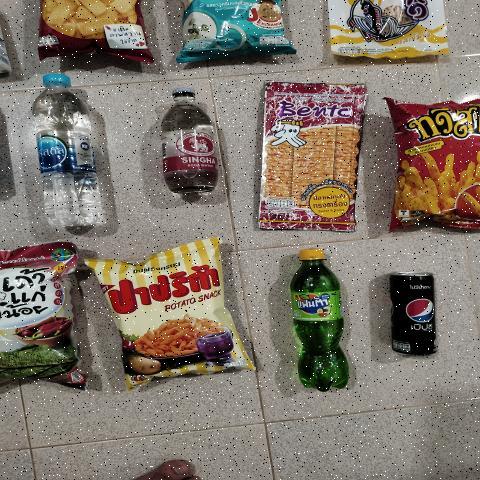bento_red: (266, 77, 366, 226)
crystal: (33, 73, 110, 228)
fanta_green: (289, 243, 357, 395)
paprika: (100, 259, 244, 380)
pepsi_black: (391, 265, 442, 357)
singha_soda: (156, 86, 225, 193)
taokaenoi: (0, 243, 82, 392)
twisco: (394, 103, 480, 227)
